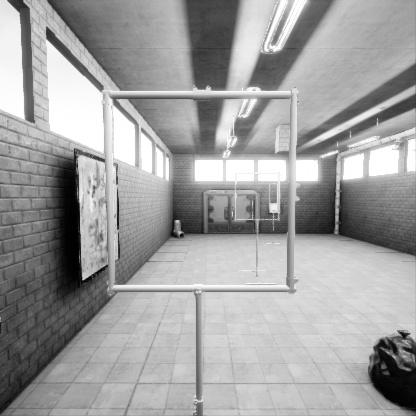gate: (114, 139, 301, 323), (235, 198, 282, 244), (269, 205, 278, 234)
